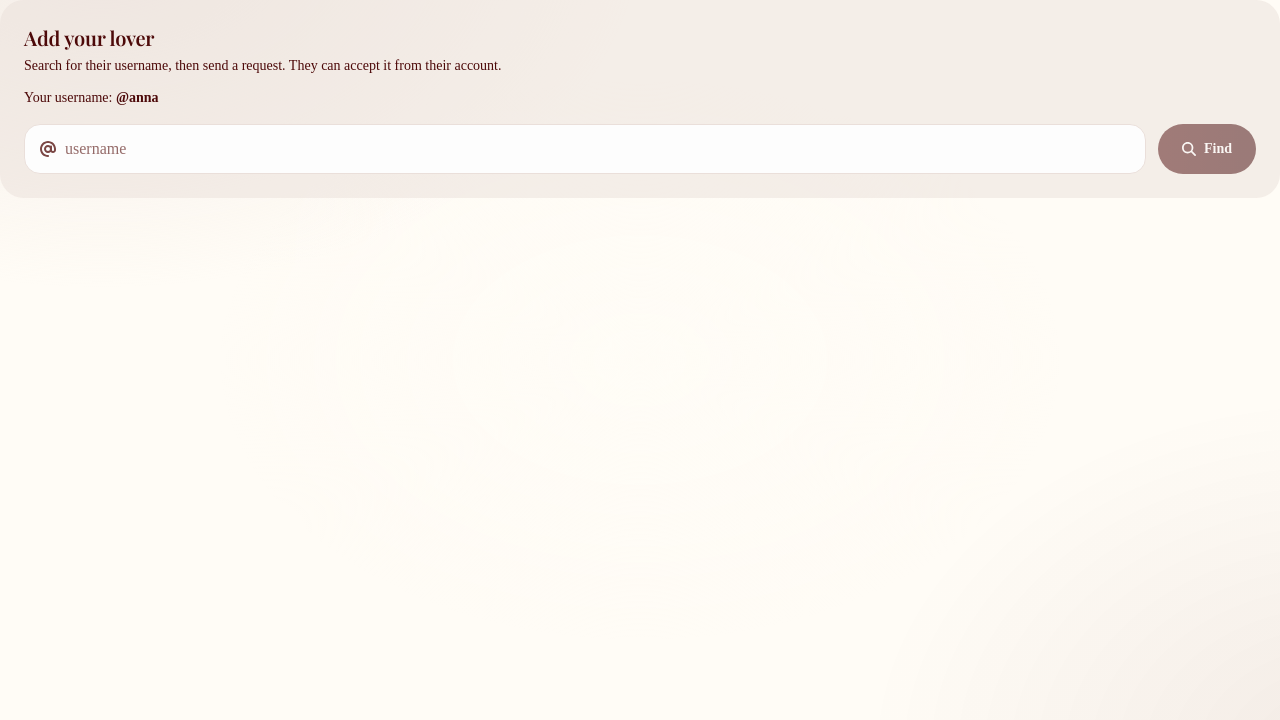
it: Add your lover › finds a username and sends a request
The image size is (1280, 720).
Later steps or results of the test are not shown.
Type "@Bob" into the field named "Their username" at {"x": 585, "y": 149}, box 24,124 -> 1146,174
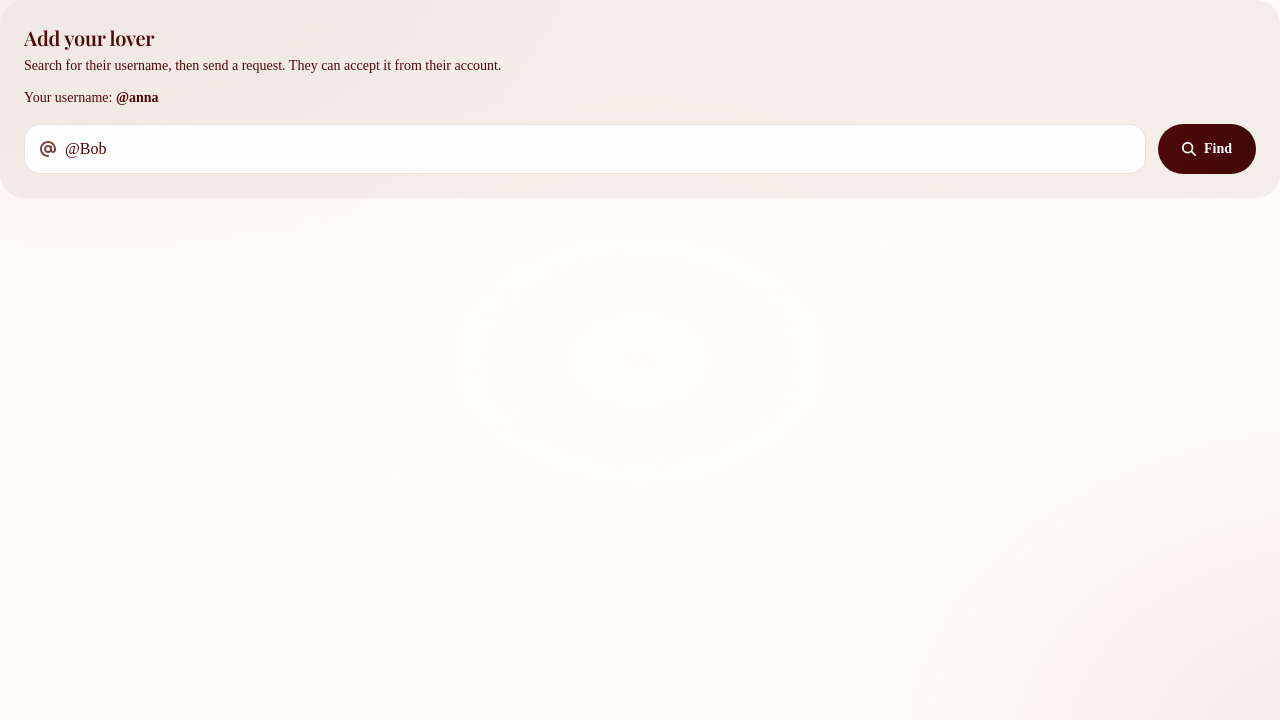
Click the button "Find" at {"x": 1207, "y": 149}, box 1158,124 -> 1256,174
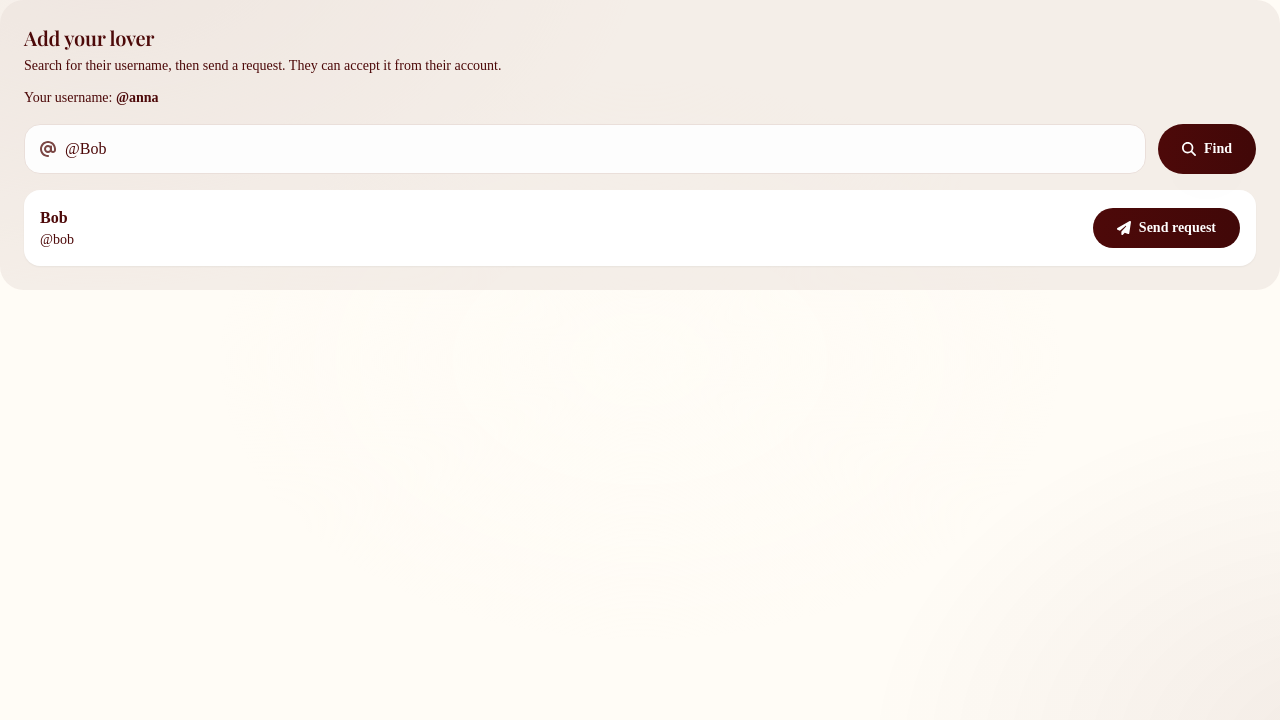
Expected: the text "Bob" is shown, 40,209 -> 68,226
